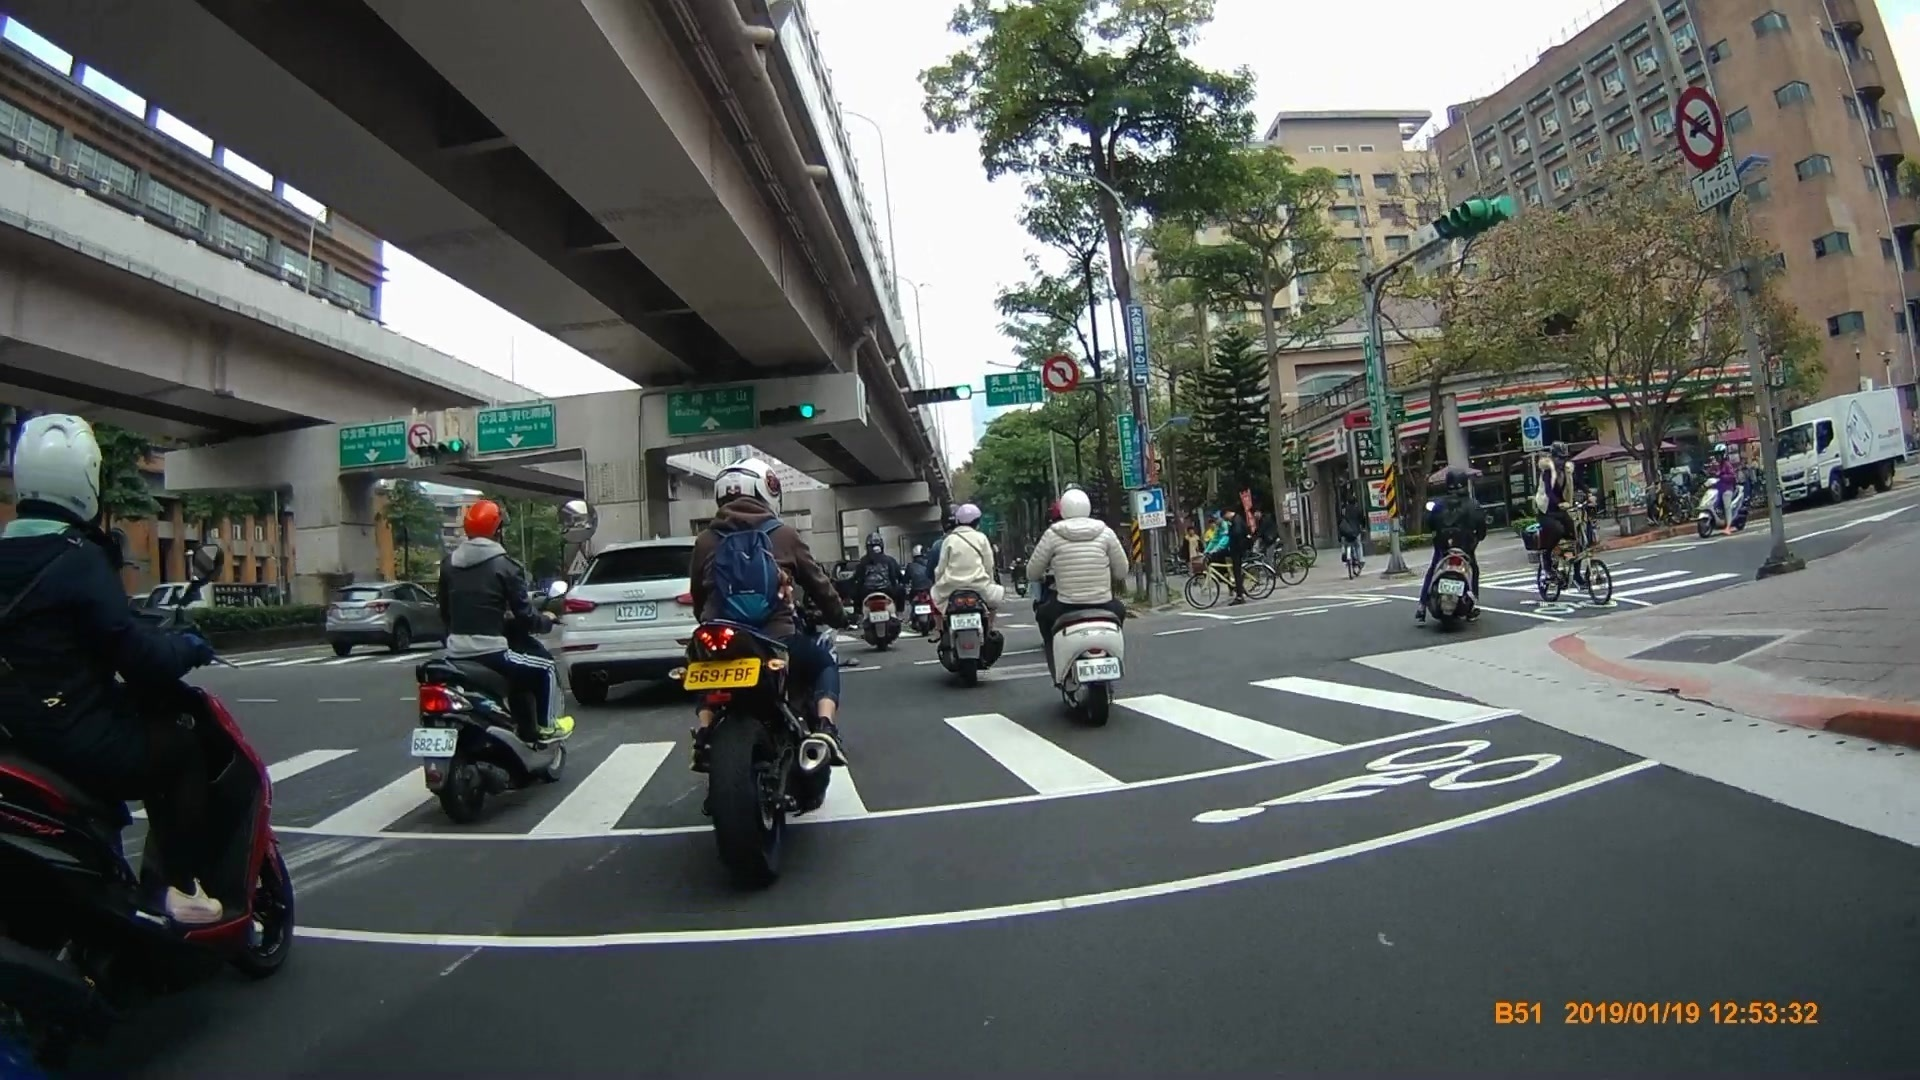License_plate: (683, 656, 761, 688), (1071, 656, 1128, 686), (409, 730, 460, 760)
